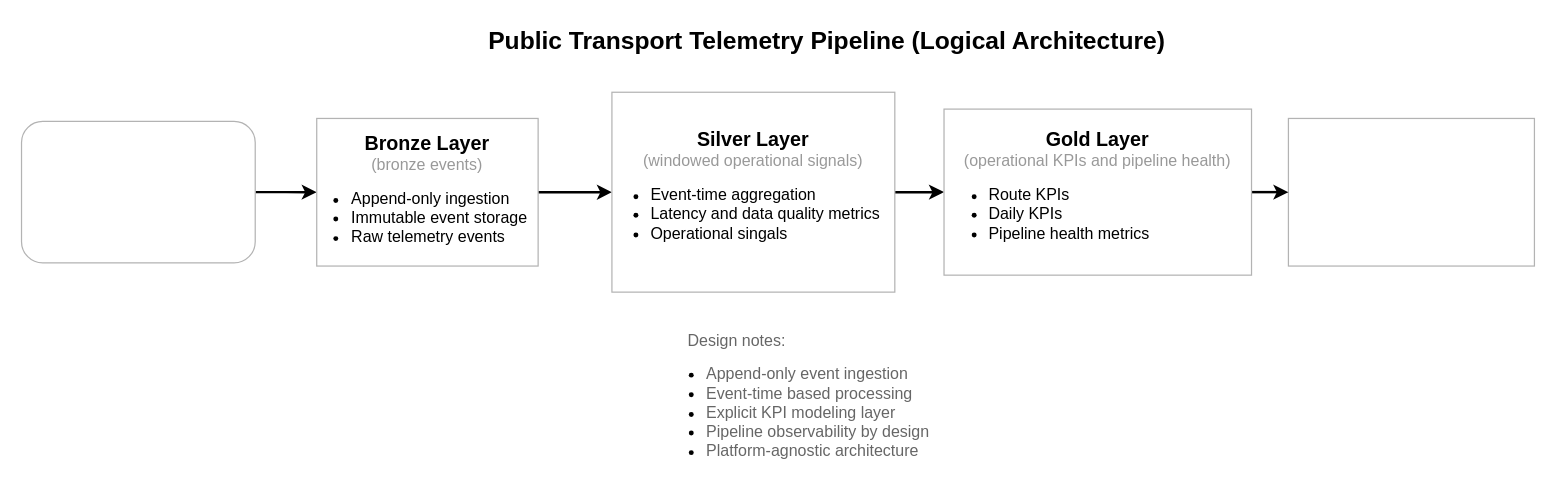
This 1556x497 diagram has some shape labels left out. Each missing label, with the centre of its shape:
Event Sources Simulated telemetry FMI weather API: the point at 137,191
Monitoring / Analytics Dashboards Monitoring Alerting Operational Analysis: the point at 1410,191
